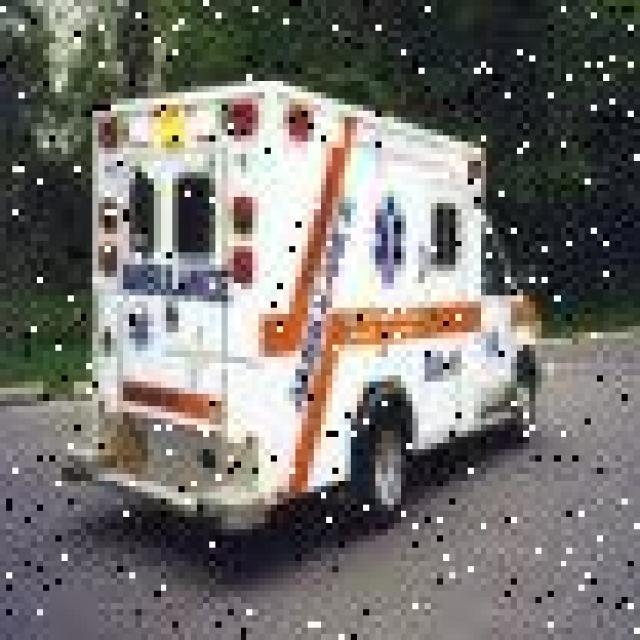emergency-vehicle: (74, 76, 542, 538)
